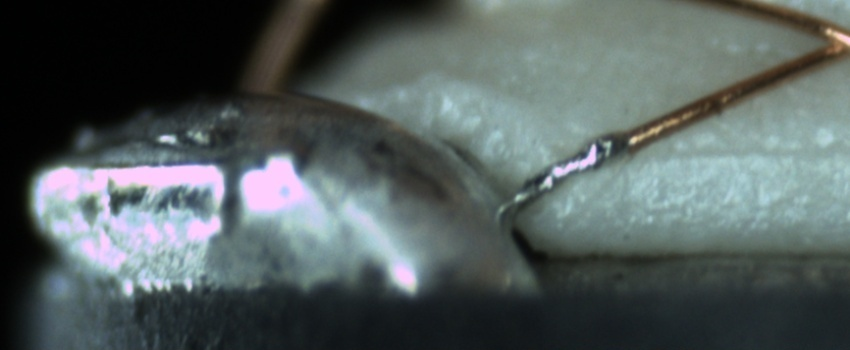CL: (799, 14, 850, 72)
DL: (634, 124, 849, 188)
TS: (515, 131, 631, 211)
TTCW: (489, 115, 669, 222)
